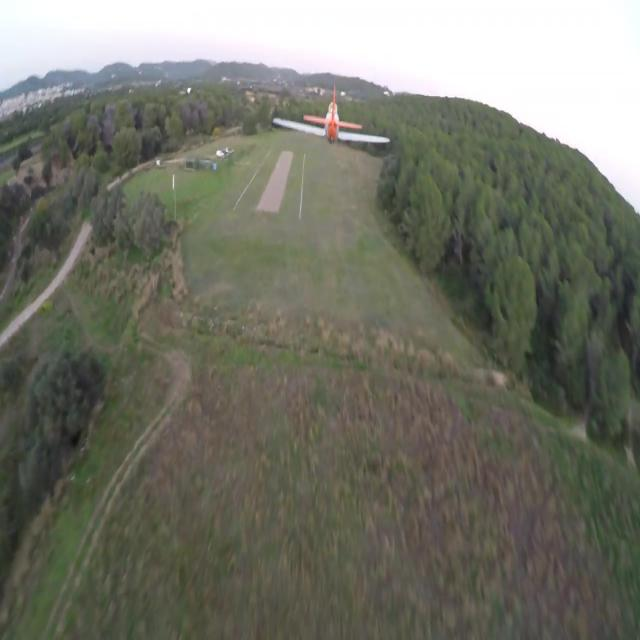iha: (299, 19, 352, 82)
